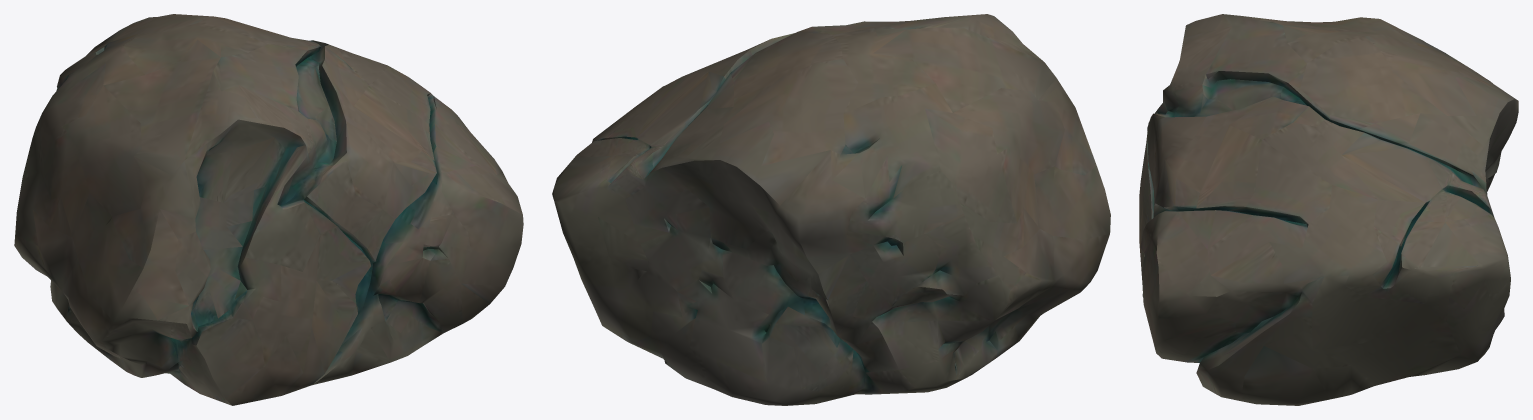
Rendered from resource_copper_ore_1.glb.
The picture shows the model from 3 angles, left to right: view 1: azimuth 30°, elevation 25°; view 2: azimuth 150°, elevation 25°; view 3: azimuth 270°, elevation 25°; orthographic projection. The views are drawn at different scales.
Visible parts, largest first — view 1: MeshyGear_resource_copper_ore; view 2: MeshyGear_resource_copper_ore; view 3: MeshyGear_resource_copper_ore.
Part boxes in pixels (<box>): MeshyGear_resource_copper_ore: <box>14,14,523,405</box>; MeshyGear_resource_copper_ore: <box>552,14,1110,405</box>; MeshyGear_resource_copper_ore: <box>1139,14,1518,405</box>.
Size of what is drawn, in the model's own units: 2 by 1.37 by 1.68.
Materials: 1 (1 with a texture image).
